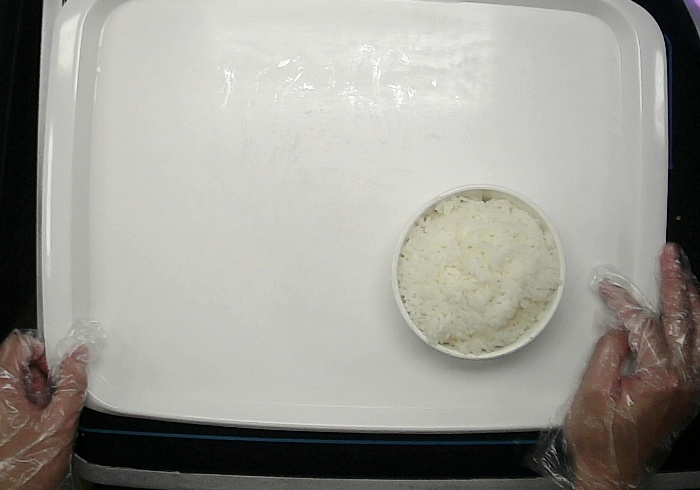HZYJPL-Fan_Wan: (391, 183, 566, 361)
